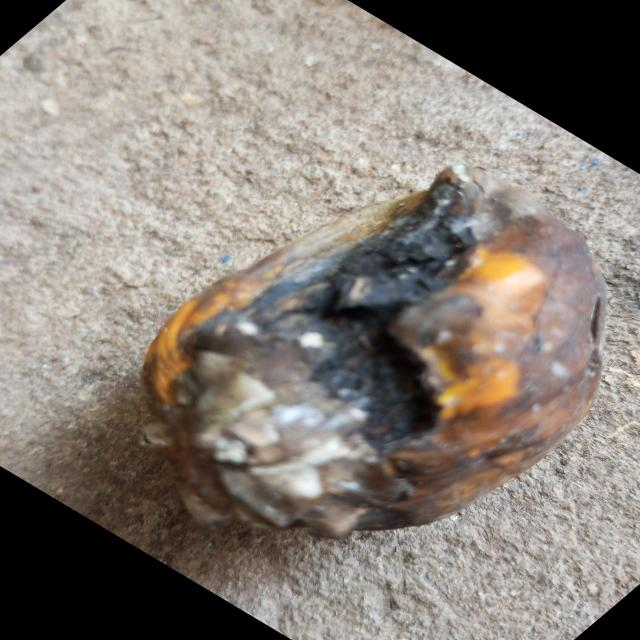damaged: (143, 165, 606, 538)
